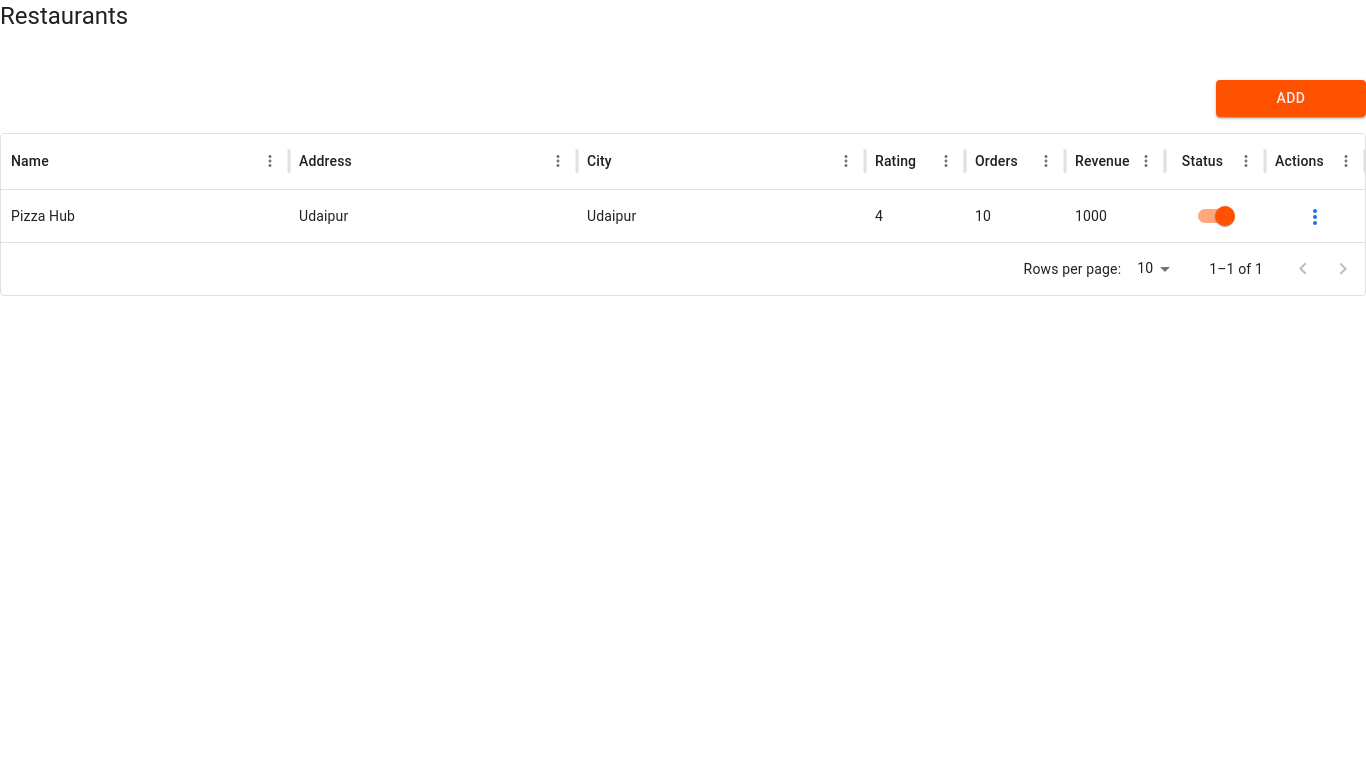
Scenario: Add Restaurant Flow (super_admin) › Address field validation › shows error when address is shorter than 5 characters
The width and height of the screenshot is (1366, 768).
Click the button with test id "add-restaurant-button".
click(1291, 98)  # box [1216,80,1365,116]
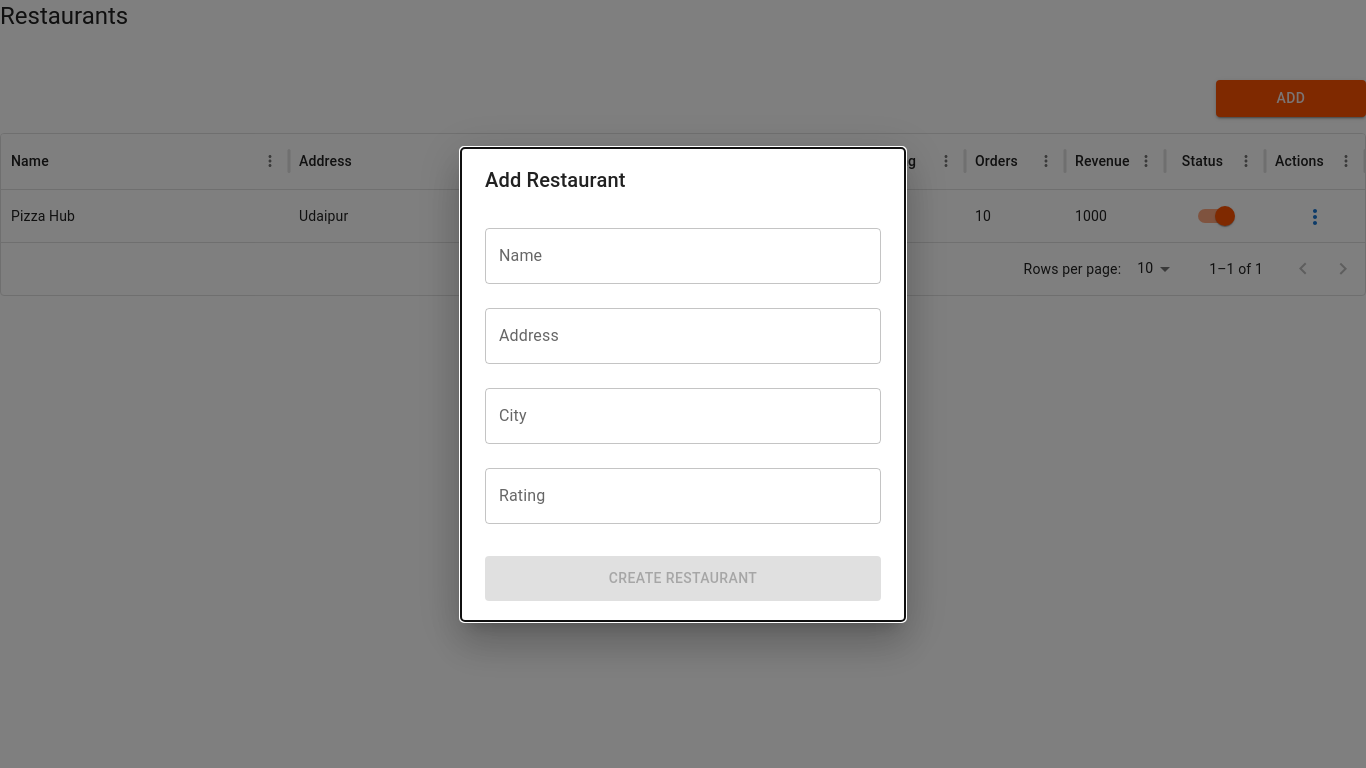
Type "ab" into the field labelled "Address".
click(683, 336); type("ab")  # box [485,308,881,364]
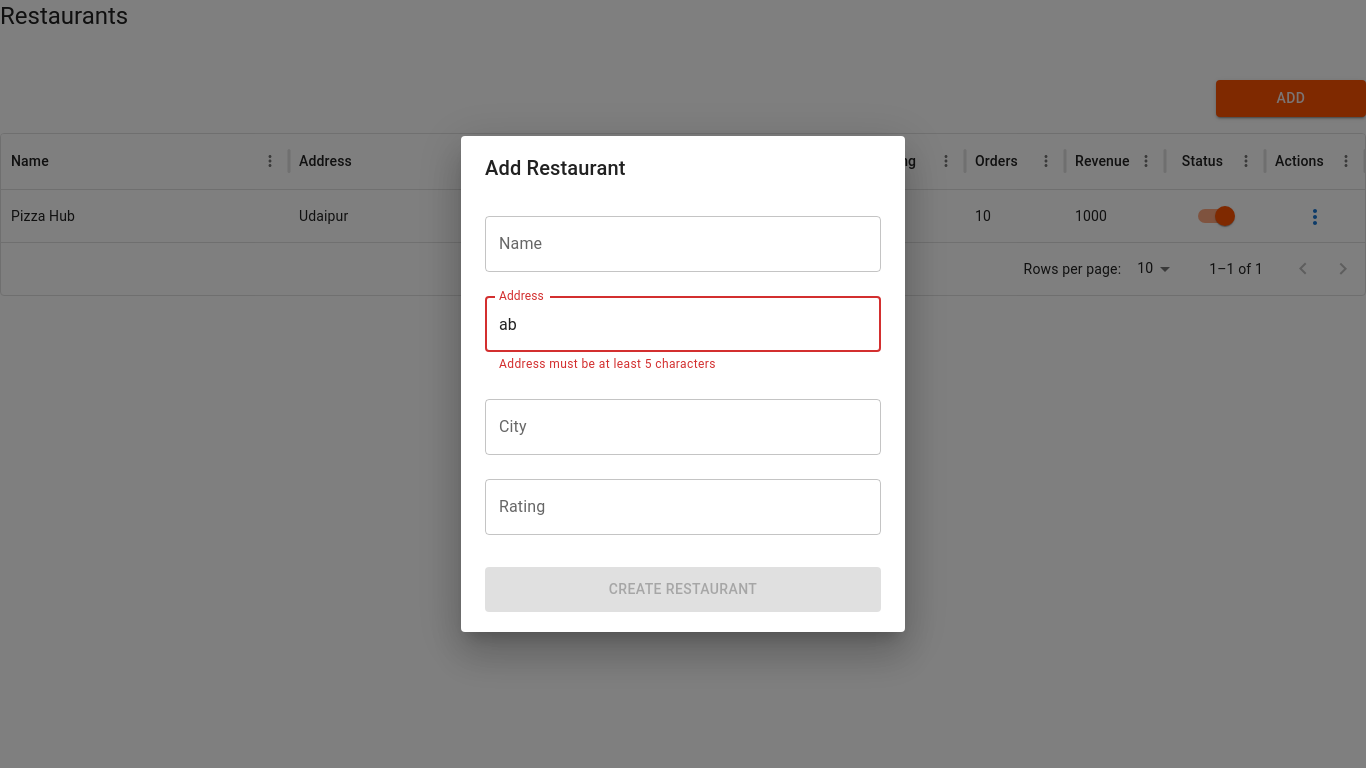
Expected: the text "Address must be at least 5 characters" is shown, [499,357,716,371]
